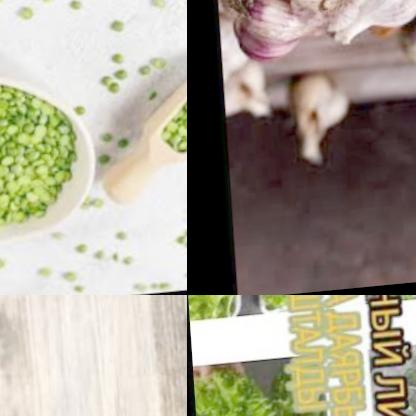garlic: (286, 67, 361, 167), (226, 0, 315, 64), (319, 0, 416, 56), (220, 50, 275, 131), (280, 0, 371, 43), (396, 0, 416, 121)
peas: (0, 75, 78, 236), (133, 0, 187, 154), (68, 99, 129, 187), (47, 232, 136, 283), (88, 35, 160, 97), (0, 249, 79, 295), (0, 0, 94, 31), (106, 274, 187, 295), (67, 192, 111, 226), (105, 22, 139, 47), (162, 236, 187, 264), (141, 0, 170, 20)
salad: (190, 366, 325, 416), (187, 295, 251, 327)
